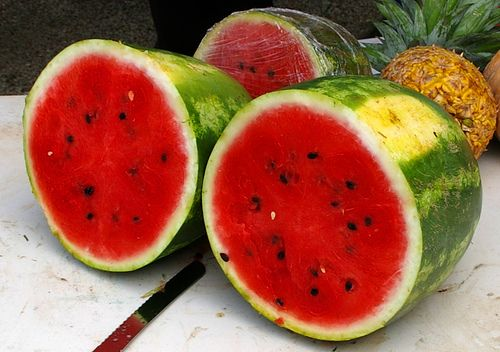watermelon: (210, 86, 465, 330), (30, 40, 232, 274)
